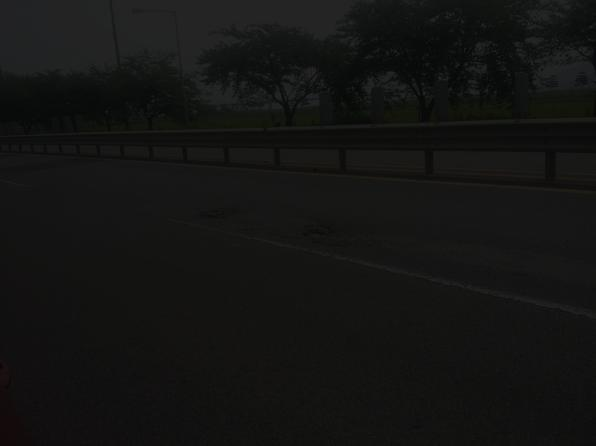pothole: (188, 187, 250, 227), (288, 218, 337, 251)
